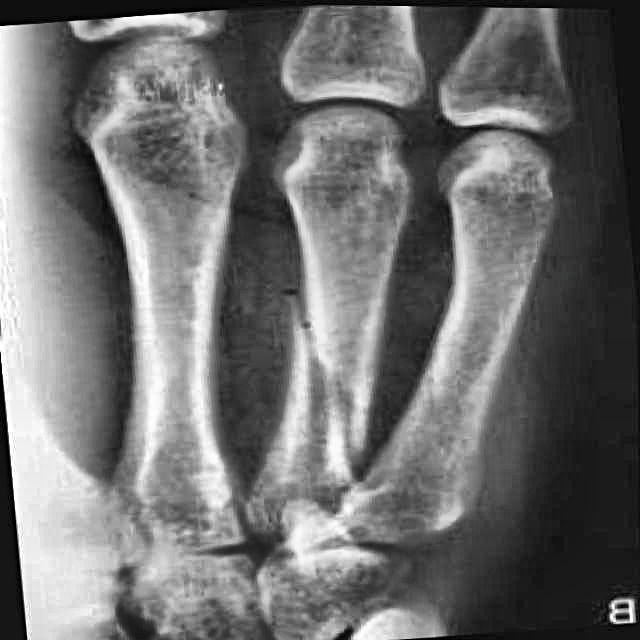Oblique Displaced: (260, 255, 410, 495)
